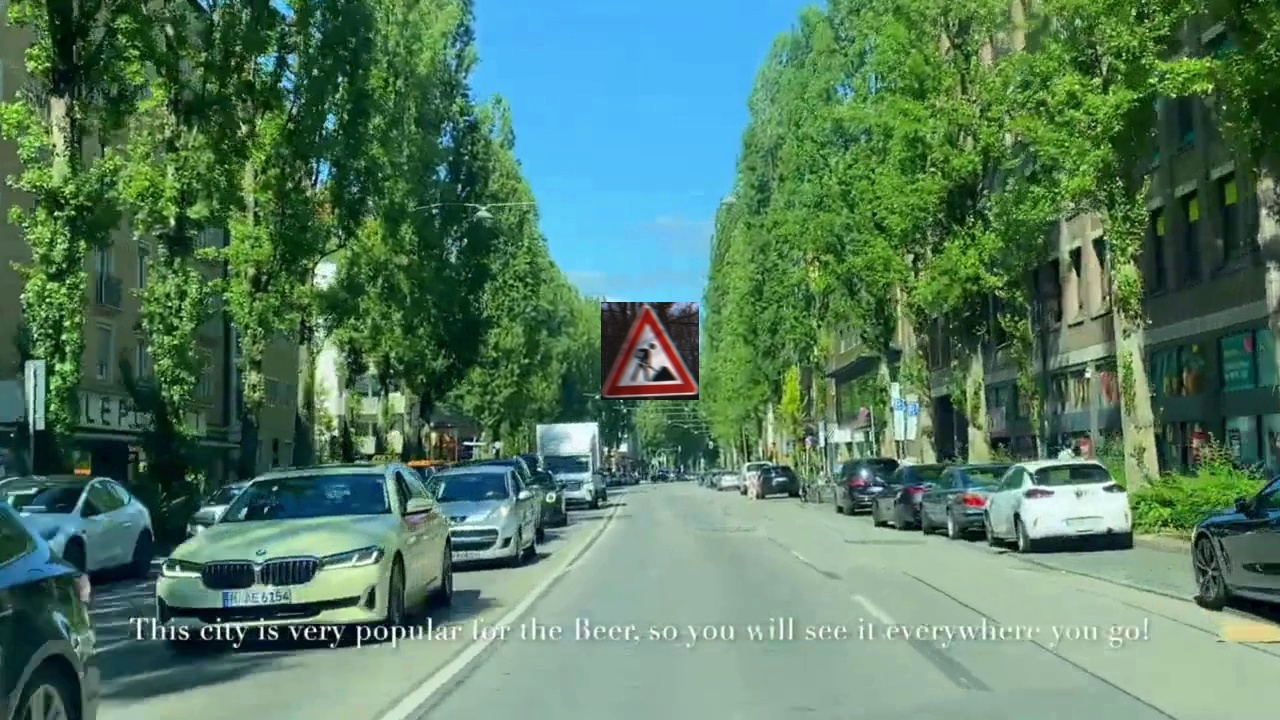Road work: (601, 302, 699, 400)
